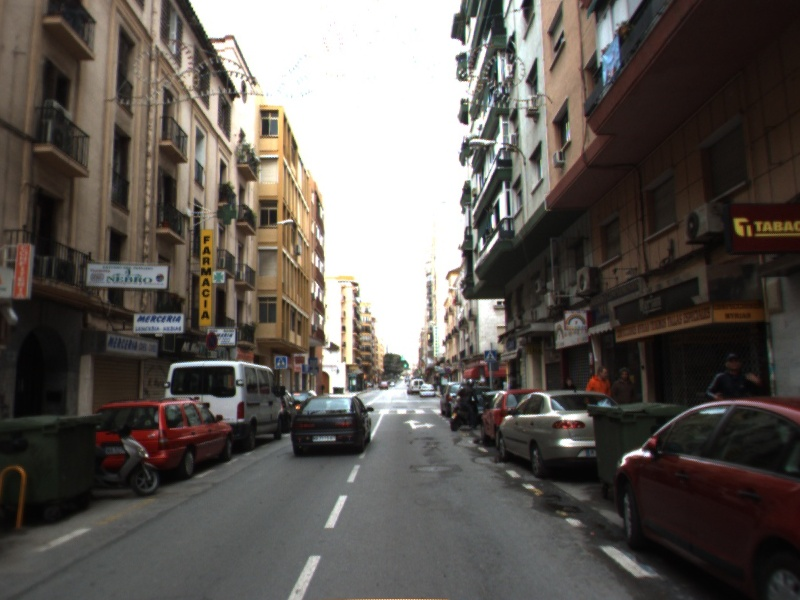STRAIGHT_RIGHT: (402, 418, 437, 431)
